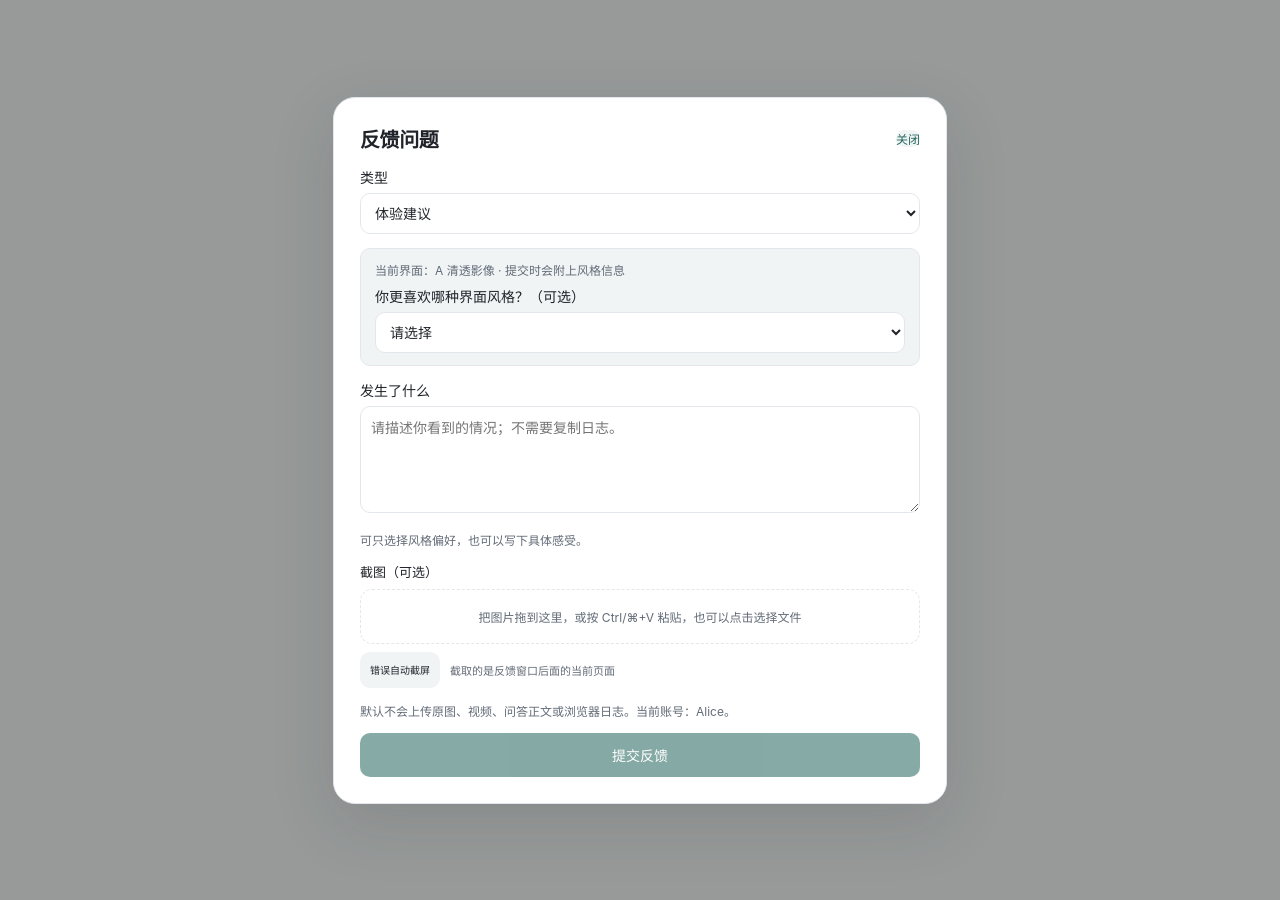
Test: 风格反馈 › 网络失败保留意见与偏好，原内容重试复用幂等键，刷新历史失败不误报提交失败
In the text box labelled "发生了什么": point(640, 459) [360,406,920,512], type "更喜欢清楚的文字"
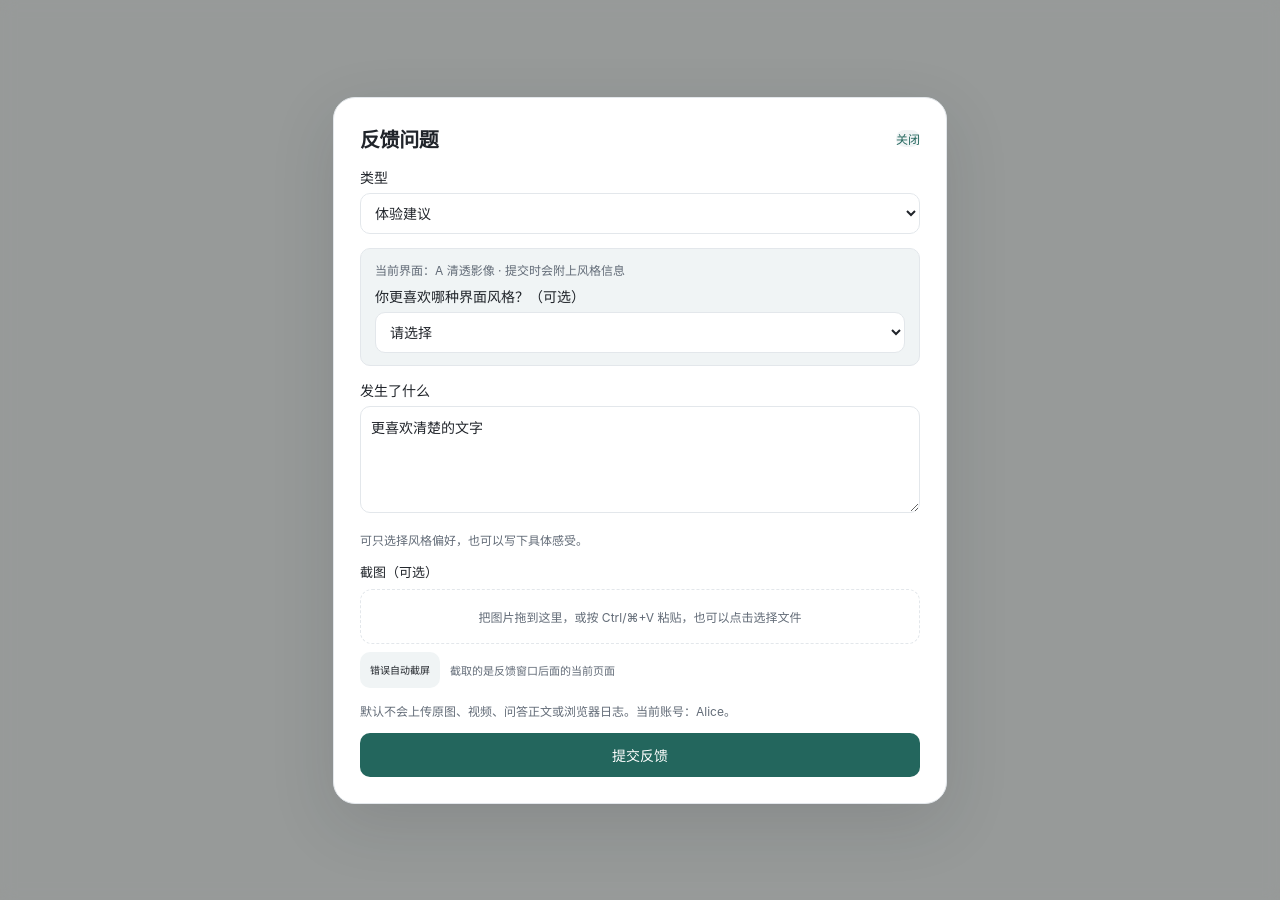
Select "B 温暖相册" in the dropdown labelled "你更喜欢哪种界面风格？（可选）": point(640, 332) [375,312,905,352]
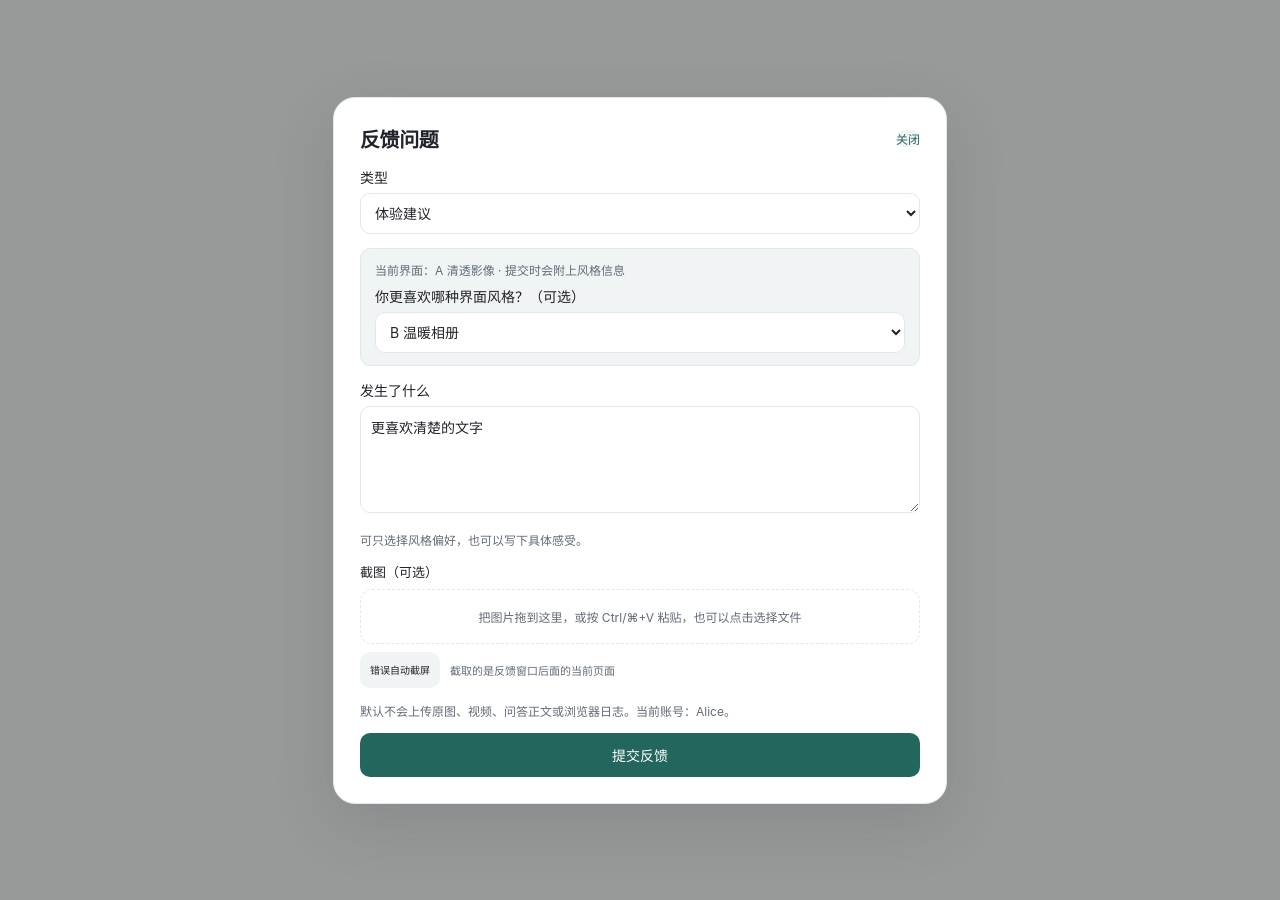
Click the button "提交反馈": point(640, 754) [360,732,920,776]
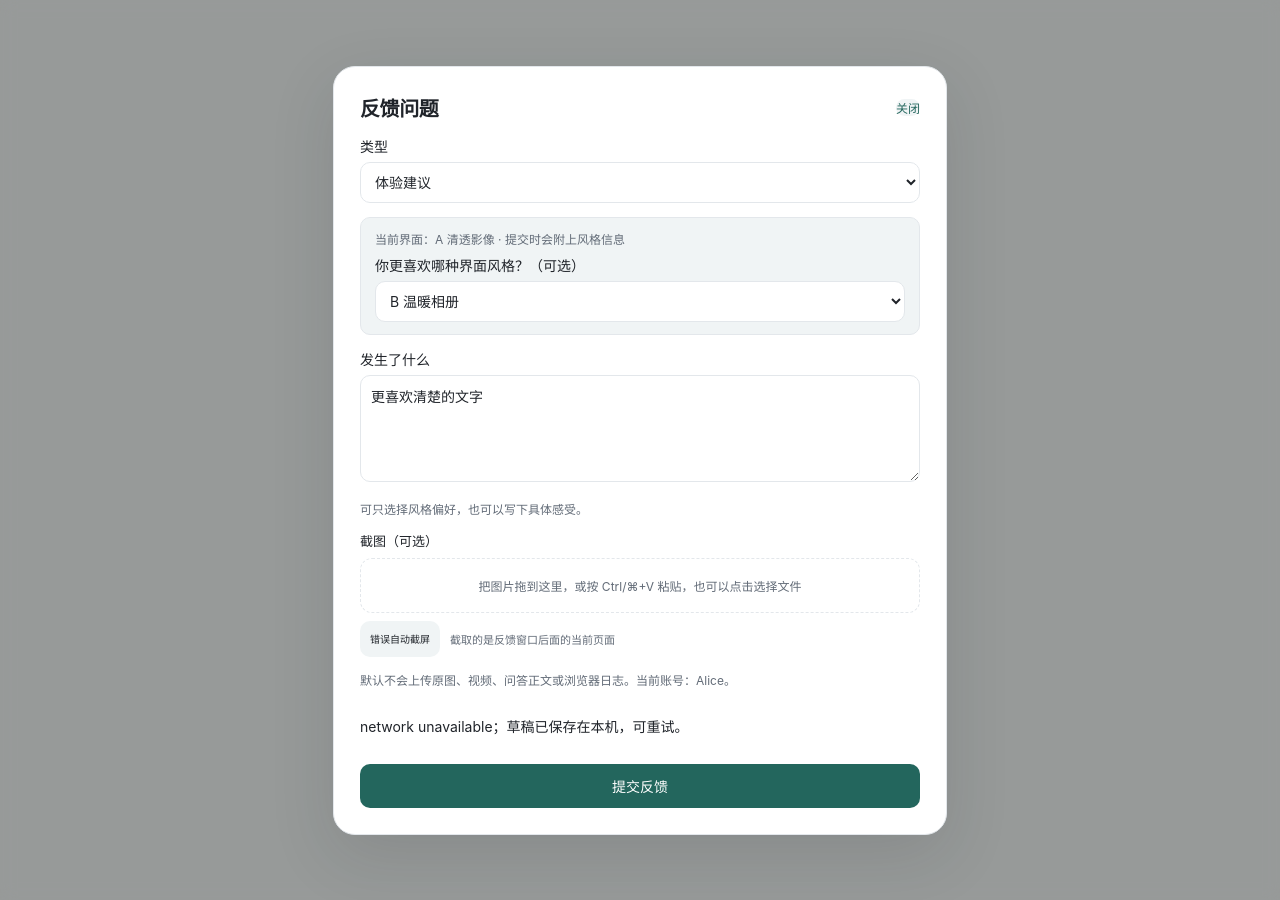
Expected: the text "network unavailable；草稿已保存在本机，可重试。" is shown, [360,718,689,734]
Click the button "提交反馈": point(640, 786) [360,764,920,808]
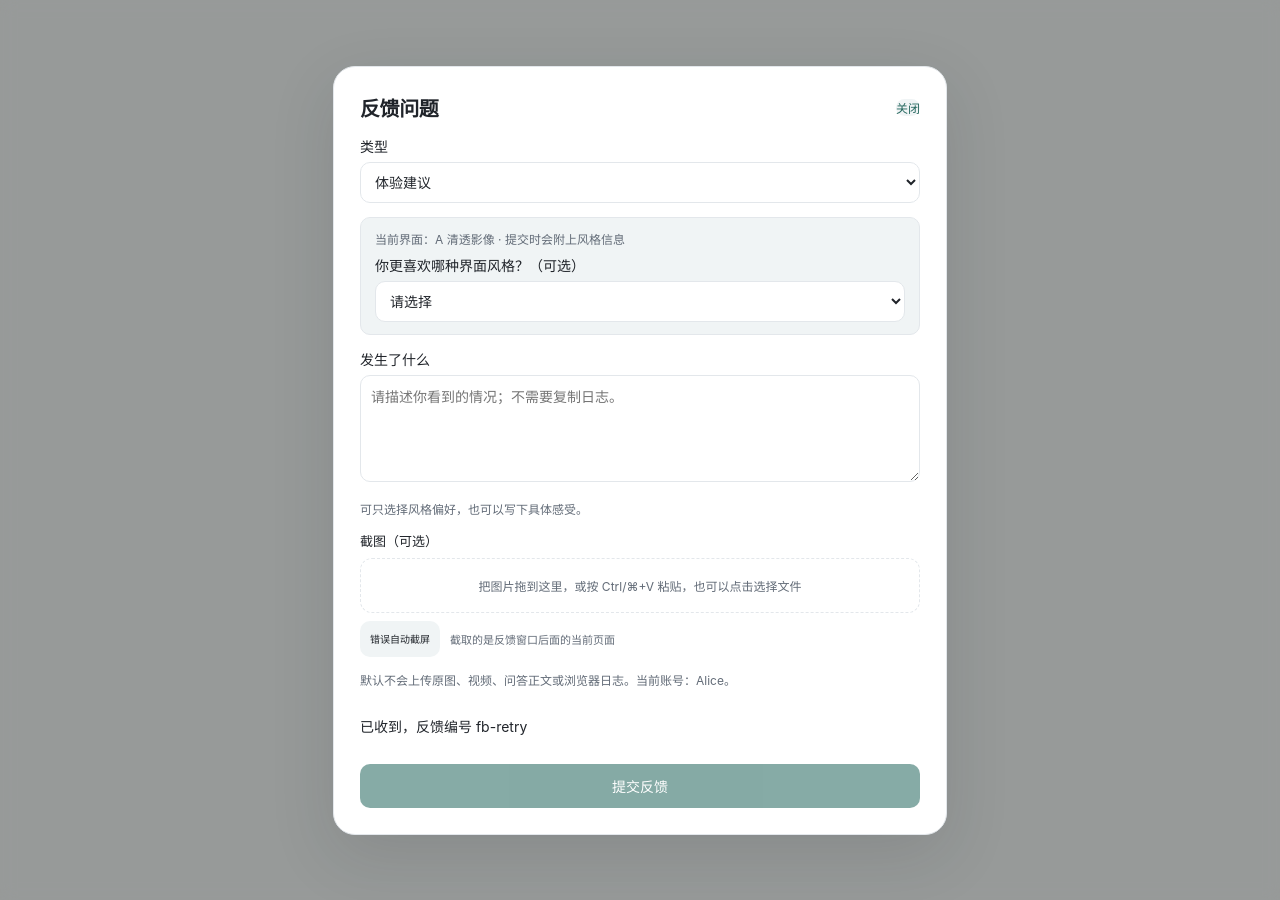
Expected: the text "已收到，反馈编号 fb-retry" is shown, [360,718,527,734]
